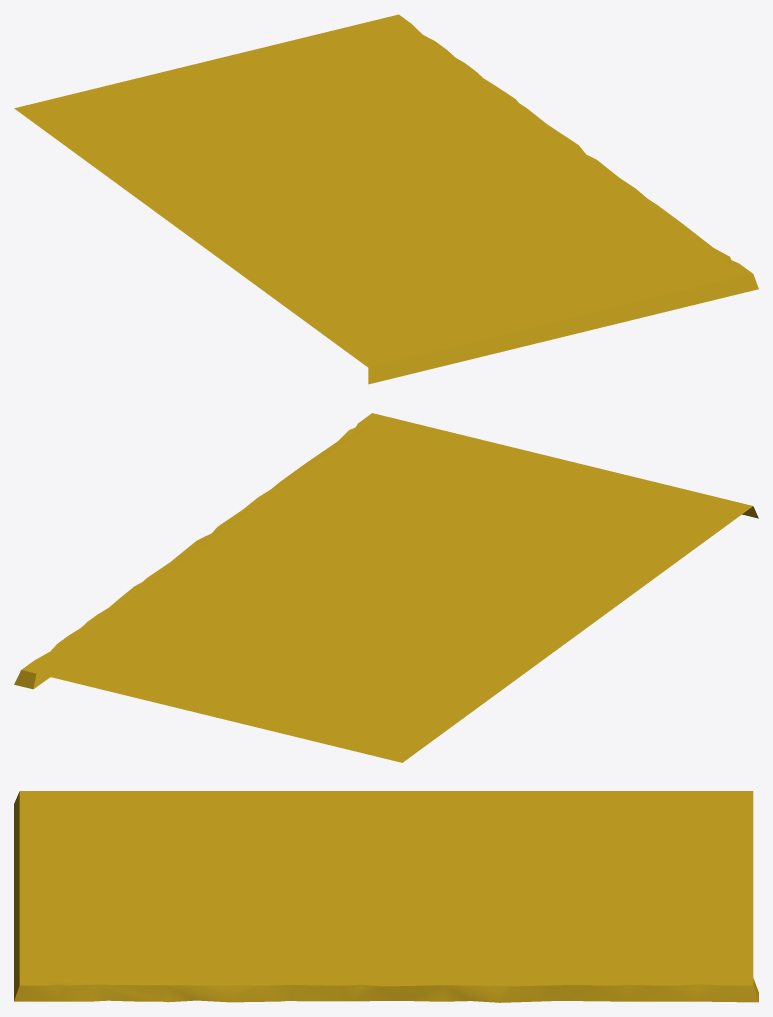
Rendered from gold_new_cutted.fbx.
3 renders of one model, top to bottom at view 1: azimuth 30°, elevation 25°; view 2: azimuth 150°, elevation 25°; view 3: azimuth 270°, elevation 25°, orthographic. The views are drawn at different scales.
Visible parts, largest first — view 1: Cube; view 2: Cube; view 3: Cube.
Part boxes in pixels (x1,y1,x2,y2): Cube: (14, 14, 758, 384); Cube: (14, 413, 758, 762); Cube: (14, 791, 758, 1002).
Bounding box in the file's own units: 5866 × 207 × 9295.
